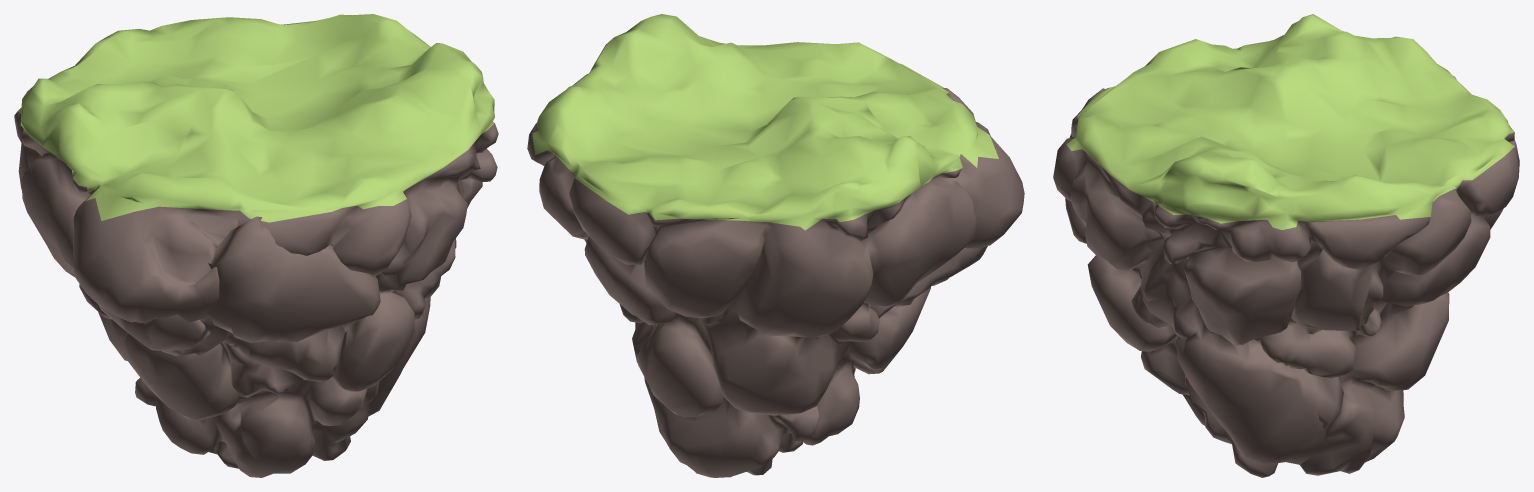
The model's file is island1.fbx.
3 renders of one model, left to right at view 1: azimuth 30°, elevation 25°; view 2: azimuth 150°, elevation 25°; view 3: azimuth 270°, elevation 25°, orthographic. The views are drawn at different scales.
Visible parts, largest first — view 1: island1; view 2: island1; view 3: island1.
Part boxes in pixels (x1,y1,x2,y2): island1: (14, 14, 498, 477); island1: (527, 14, 1024, 477); island1: (1053, 14, 1519, 477).
Size of the model in its own units: 12.33 by 11.18 by 12.54.
